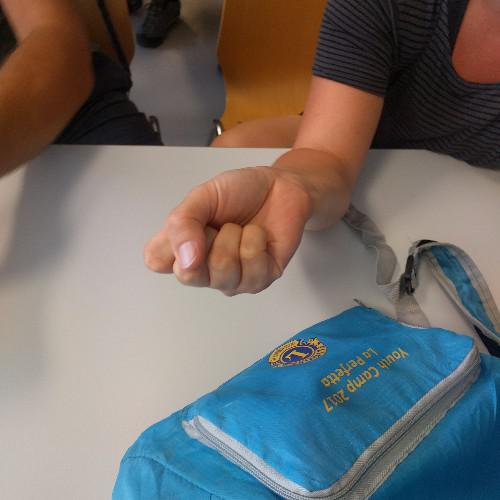rock: (136, 162, 313, 302)
